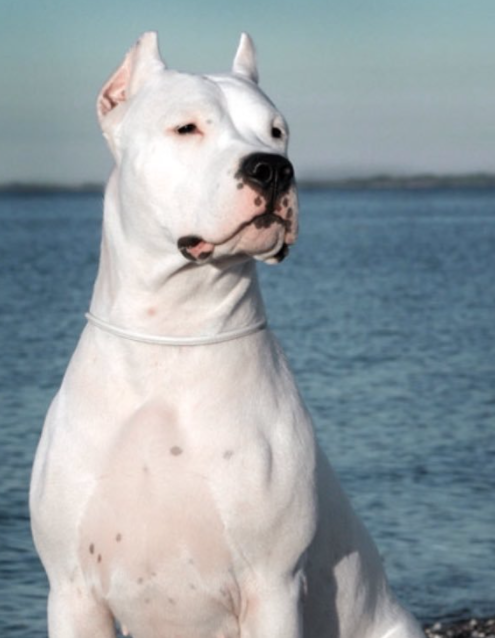dog: (26, 35, 429, 638)
